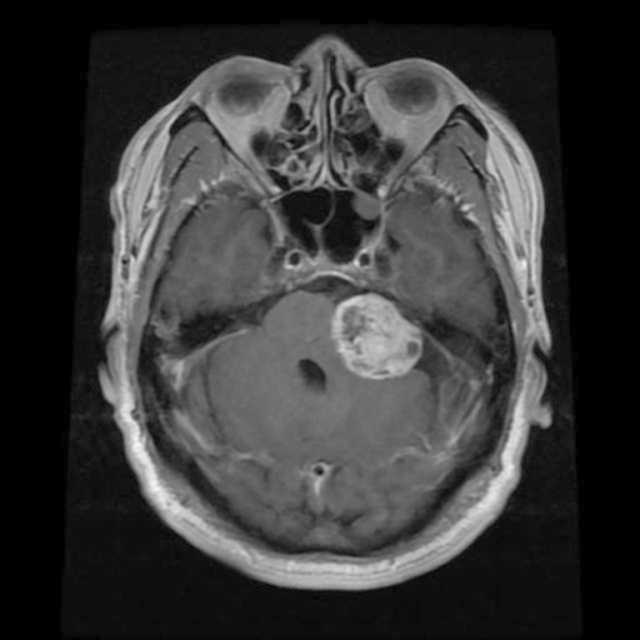meningioma tumor: (319, 279, 431, 390)
